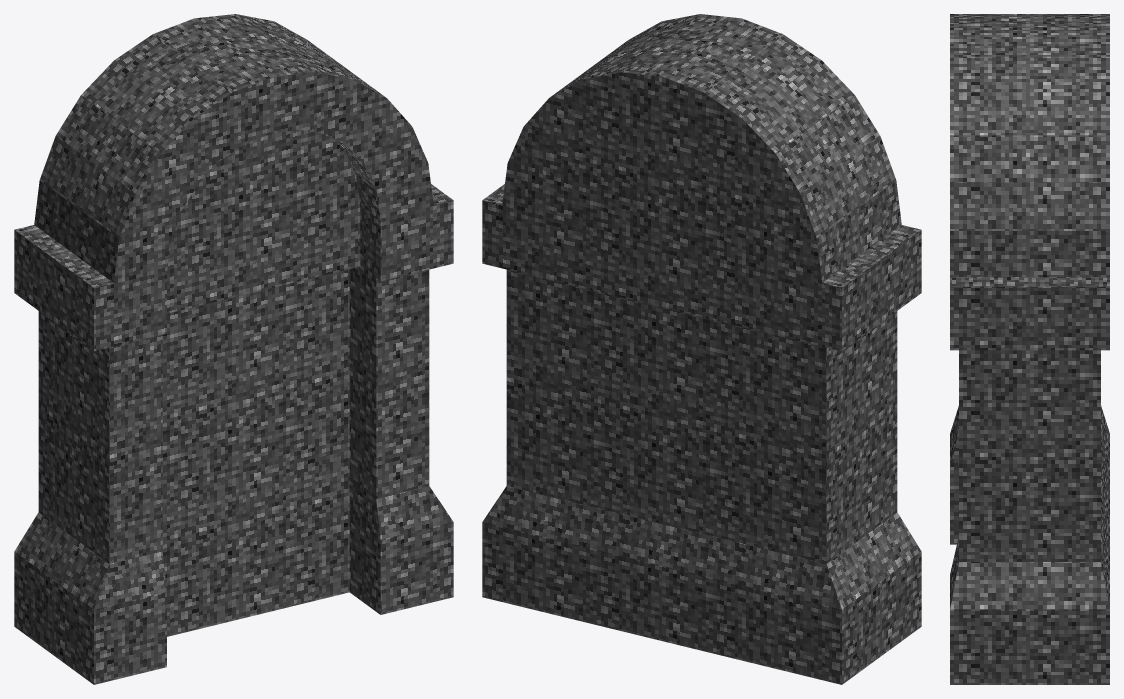
The model's file is tombstone3.glb.
3 views of the same model, side by side, from view 1: azimuth 30°, elevation 25°; view 2: azimuth 150°, elevation 25°; view 3: azimuth 270°, elevation 25° (orthographic).
Visible parts, largest first — view 1: gravestoneRound; view 2: gravestoneRound; view 3: gravestoneRound.
Boxes of the visible parts, box(x1,y1,x2,y2) form: gravestoneRound: box(14, 14, 453, 684); gravestoneRound: box(482, 14, 921, 684); gravestoneRound: box(950, 14, 1109, 684).
Size of the model in its own units: 0.39 by 0.585 by 0.1495.
Materials: 1 (1 with a texture image).
